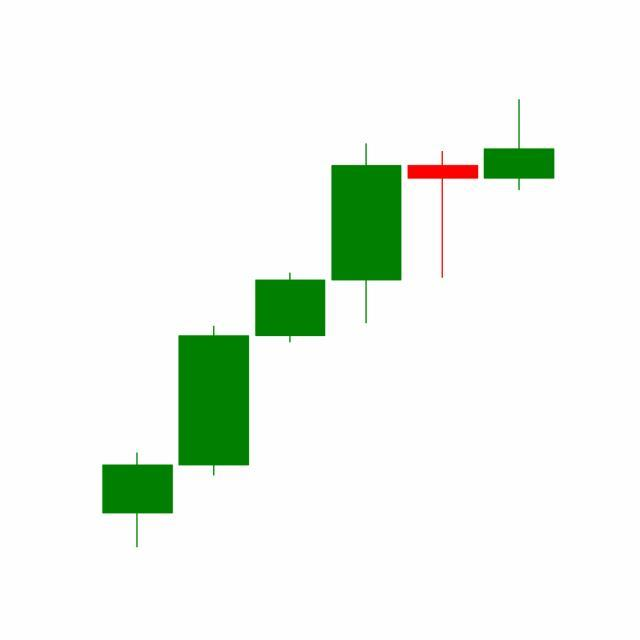Spinning Top: (404, 150, 482, 281)
